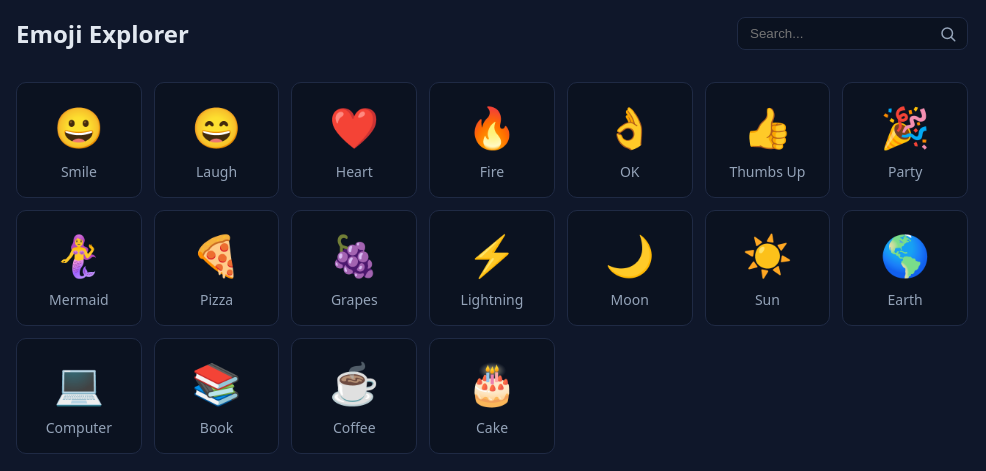
Emoji Explorer - Filtering › filters by emoji character
In the field named "search emoji": (853, 34) left=737, top=17, right=968, bottom=50, type "🔥"
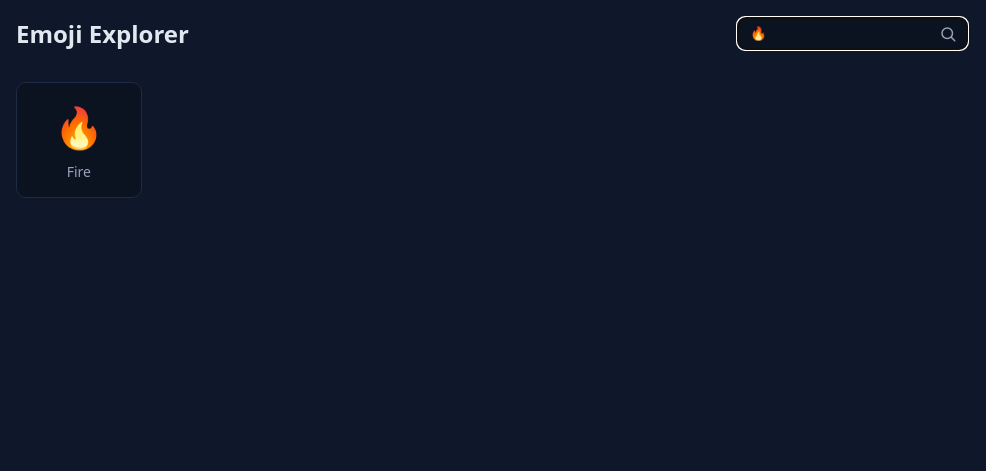
Expected: the number of cells is 1, left=16, top=82, right=142, bottom=198
